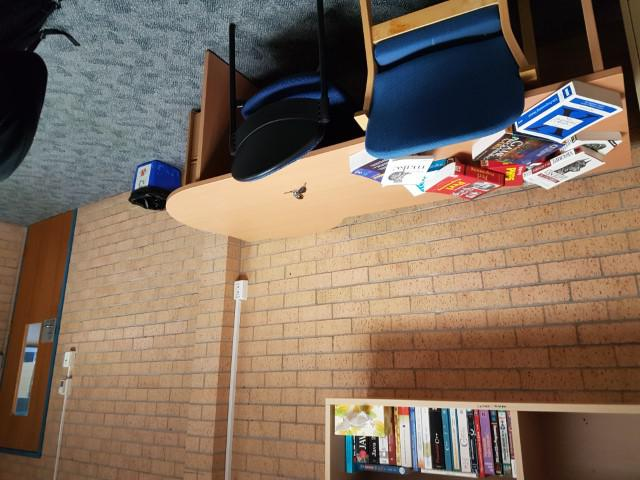key: (298, 181, 309, 193)
